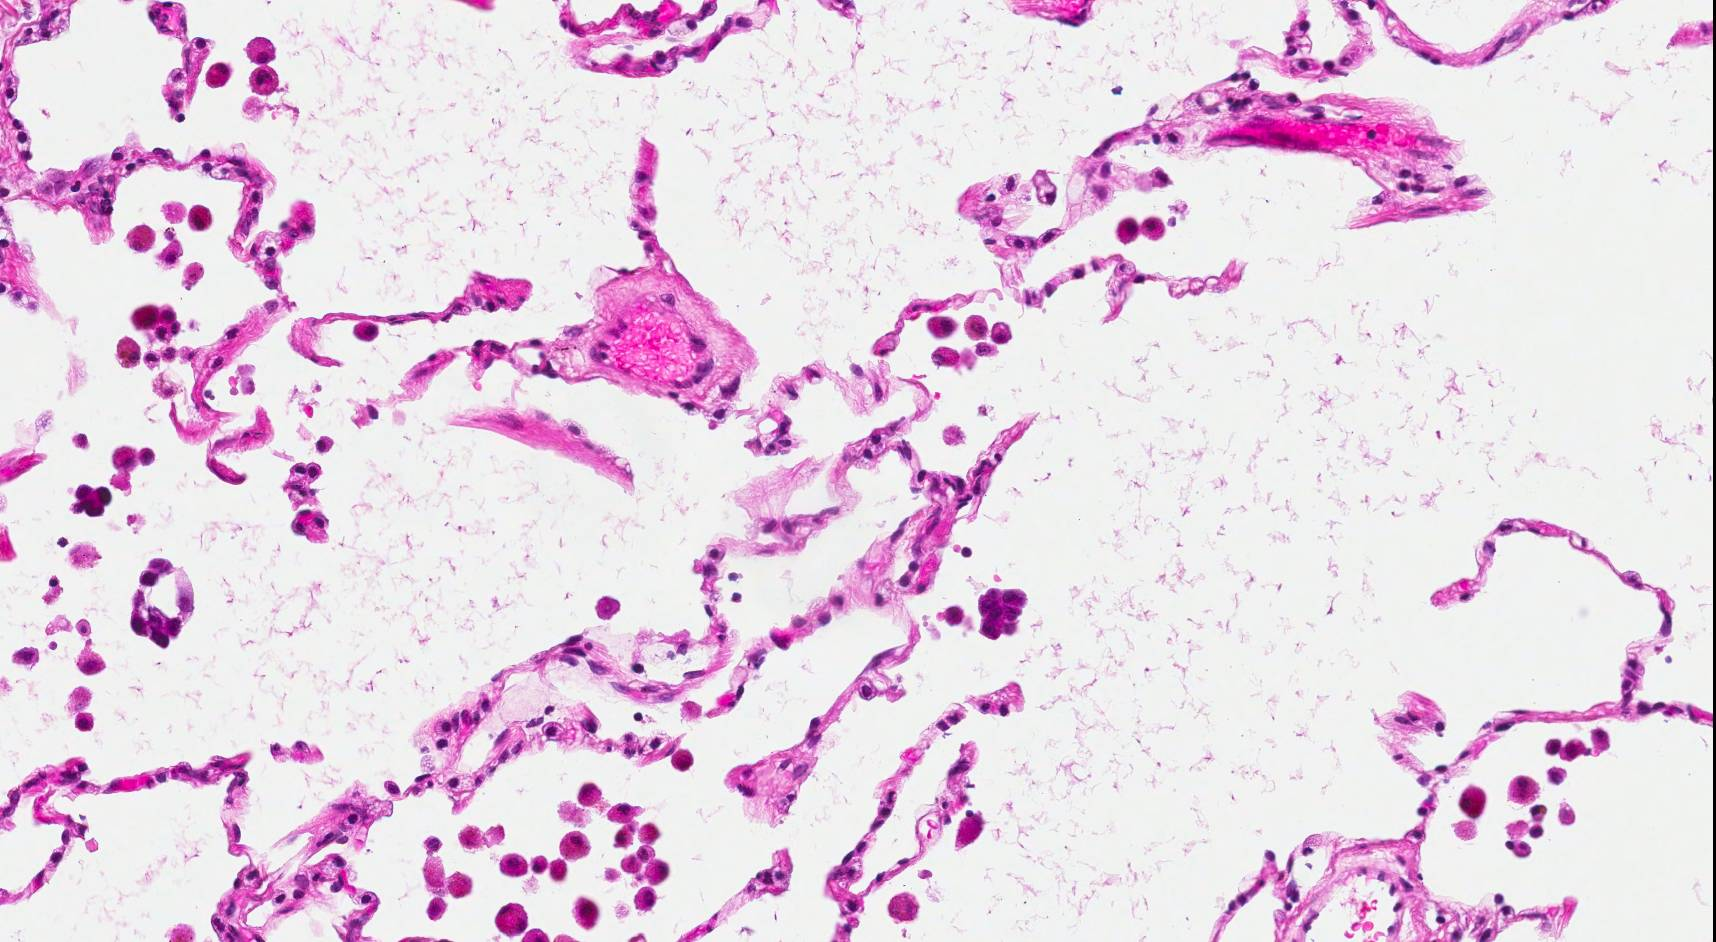stas: (129, 557, 195, 649), (978, 583, 1029, 644), (65, 483, 116, 521)
